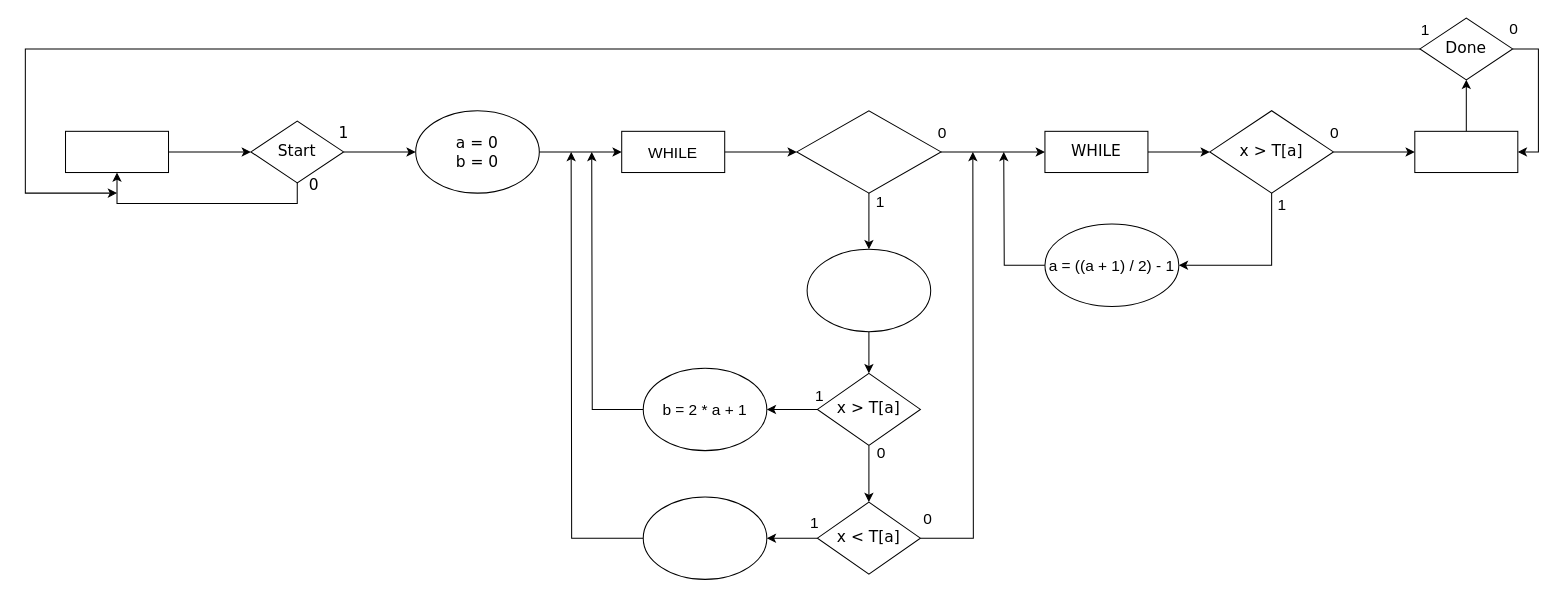
Some shapes in this 1565 by 597 pixel diagram are drawn without their labels. Here are the shapes that lost their labels. From the top down, the centre of each, then its label:
the point at 116,151: IDLE
the point at 868,151: b < len(T)
the point at 1466,151: END
the point at 868,290: a = b
the point at 704,537: b = 2 * a + 2
